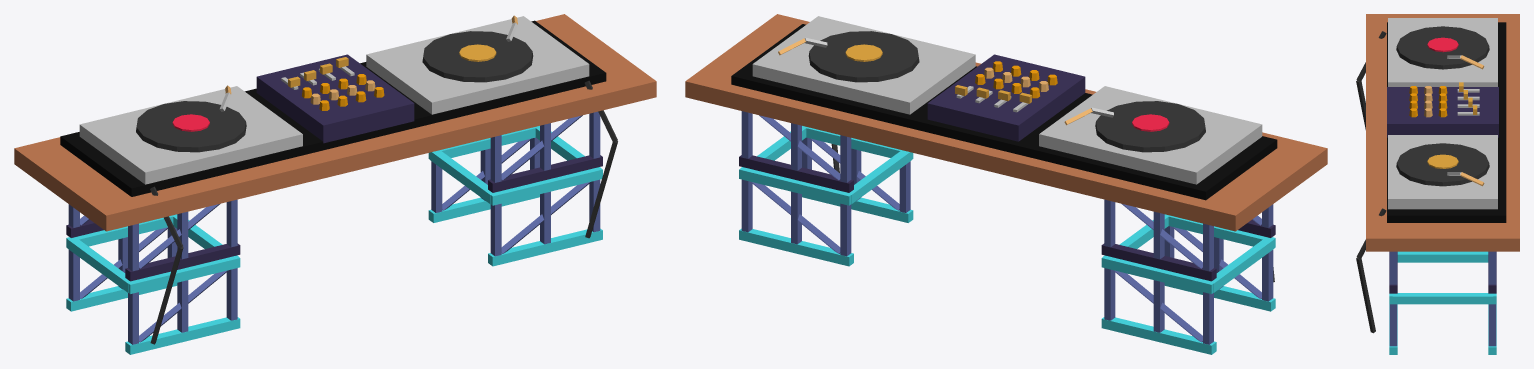
File: DoorDecks.obj
3 renders of one model, left to right at view 1: azimuth 30°, elevation 25°; view 2: azimuth 150°, elevation 25°; view 3: azimuth 270°, elevation 25°, orthographic. The views are drawn at different scales.
Parts seen in each view (by area): view 1: DoorDecks; view 2: DoorDecks; view 3: DoorDecks.
Boxes of the visible parts, bbox=[...] form: DoorDecks: bbox=[14, 14, 656, 354]; DoorDecks: bbox=[685, 14, 1327, 354]; DoorDecks: bbox=[1356, 14, 1519, 354].
Size of the model in its own units: 2.9 by 0.9928 by 0.8947.
1 material, 1 textured.
